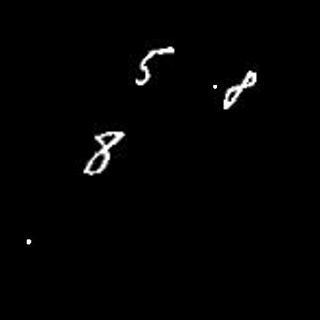dot: (209, 77, 221, 91), (22, 236, 33, 246)
eight: (84, 125, 121, 175), (222, 70, 259, 111)
five: (130, 43, 174, 90)
